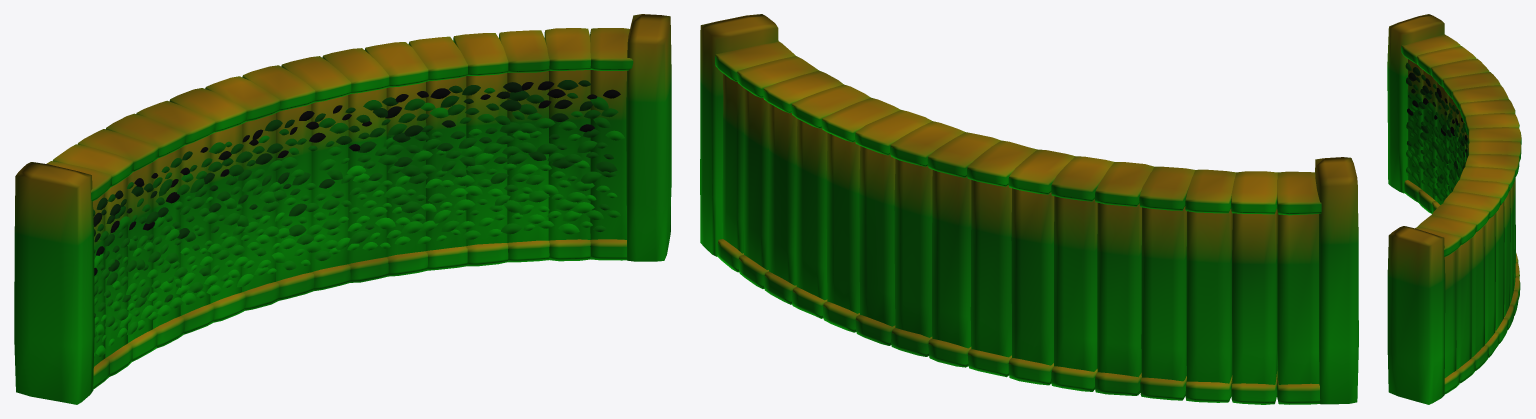
The model's file is wakeshell_wall.glb.
3 renders of one model, left to right at view 1: azimuth 30°, elevation 25°; view 2: azimuth 150°, elevation 25°; view 3: azimuth 270°, elevation 25°, orthographic. The views are drawn at different scales.
Visible parts, largest first — view 1: wakeshell_wall; view 2: wakeshell_wall; view 3: wakeshell_wall.
Boxes of the visible parts, bbox=[...] form: wakeshell_wall: bbox=[14, 14, 671, 404]; wakeshell_wall: bbox=[700, 14, 1358, 404]; wakeshell_wall: bbox=[1387, 14, 1521, 404].
Size of what is drawn, in the model's own units: 7.95 by 2.56 by 1.94.
